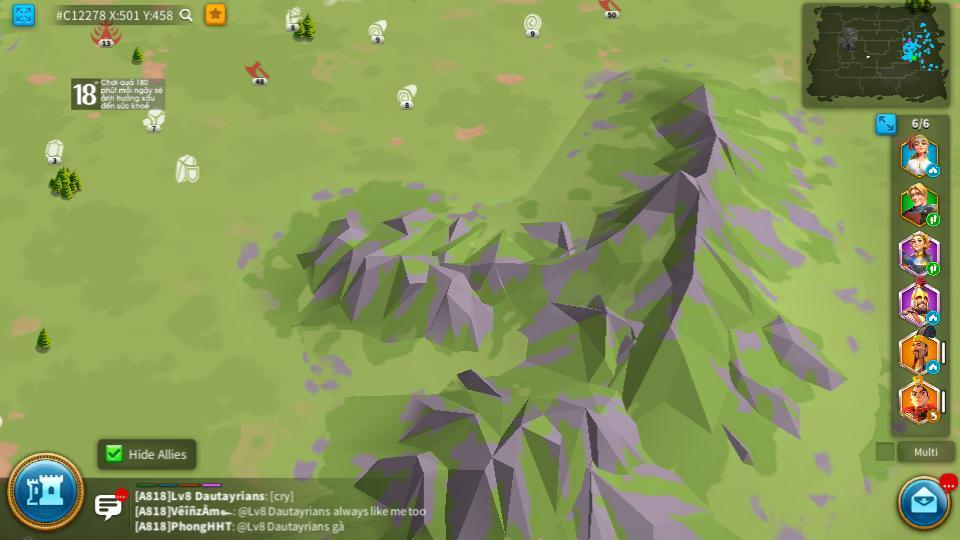gem-z-out: (42, 139, 65, 162)
march_idle: (927, 312, 940, 324), (926, 362, 940, 373), (926, 166, 941, 176)
march_marching: (925, 263, 938, 275), (927, 215, 940, 226)
march_returning: (926, 411, 940, 422)
